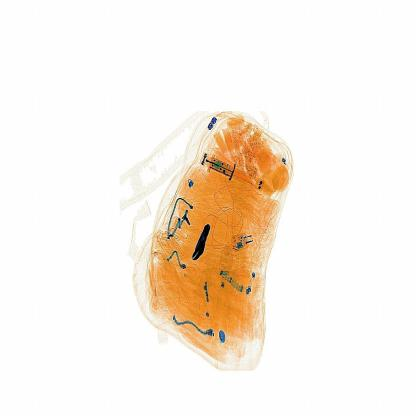knife: (190, 220, 210, 260)
